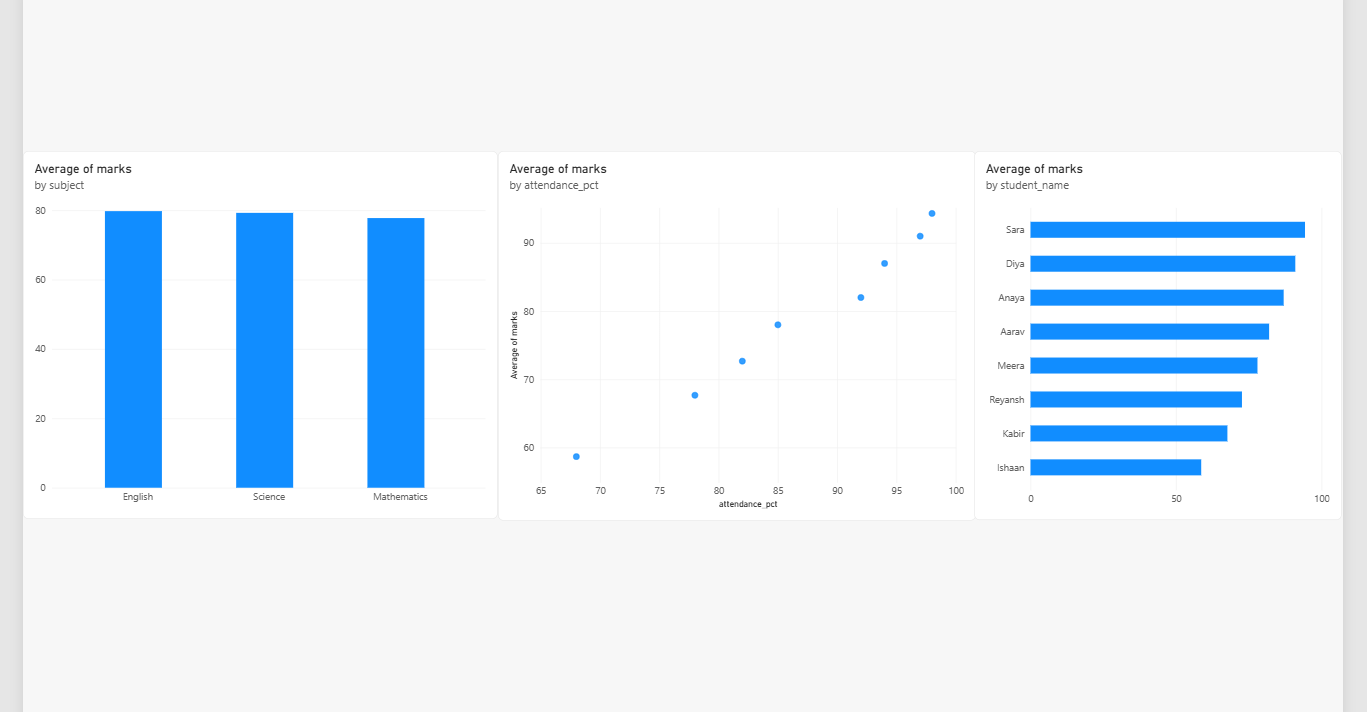

The dashboard page shown, as its layout file describes it:
{"tool":"powerbi","page":{"name":"Page 2","canvas":[1920,1080],"ordinal":1},"visuals":[{"type":"clusteredColumnChart","fields":{"Category":["student_performance.subject"],"Y":["Avg(student_performance.marks)"]},"box":[0,232.5,690,535],"z":0},{"type":"scatterChart","fields":{"X":["student_performance.attendance_pct"],"Y":["Avg(student_performance.marks)"]},"box":[690,232.5,695,537.5],"z":1},{"type":"clusteredBarChart","fields":{"Category":["student_performance.student_name"],"Y":["Avg(student_performance.marks)"]},"box":[1384.3,232.9,534.3,537.1],"z":2}]}

Visuals, with their boxes on the page's 1920x1080 design canvas (x1, y1, x2, y2). These are canvas units, not pixel positions in the 1367x712 screenshot, which may show the page scaled, cropped or inside an application window:
clusteredColumnChart - student_performance.subject x Avg(student_performance.marks): <region>0, 232, 690, 768</region>
scatterChart - student_performance.attendance_pct x Avg(student_performance.marks): <region>690, 232, 1385, 770</region>
clusteredBarChart - student_performance.student_name x Avg(student_performance.marks): <region>1384, 233, 1919, 770</region>
